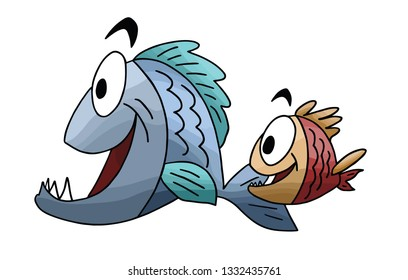fish: (29, 39, 301, 234), (244, 97, 368, 208)
